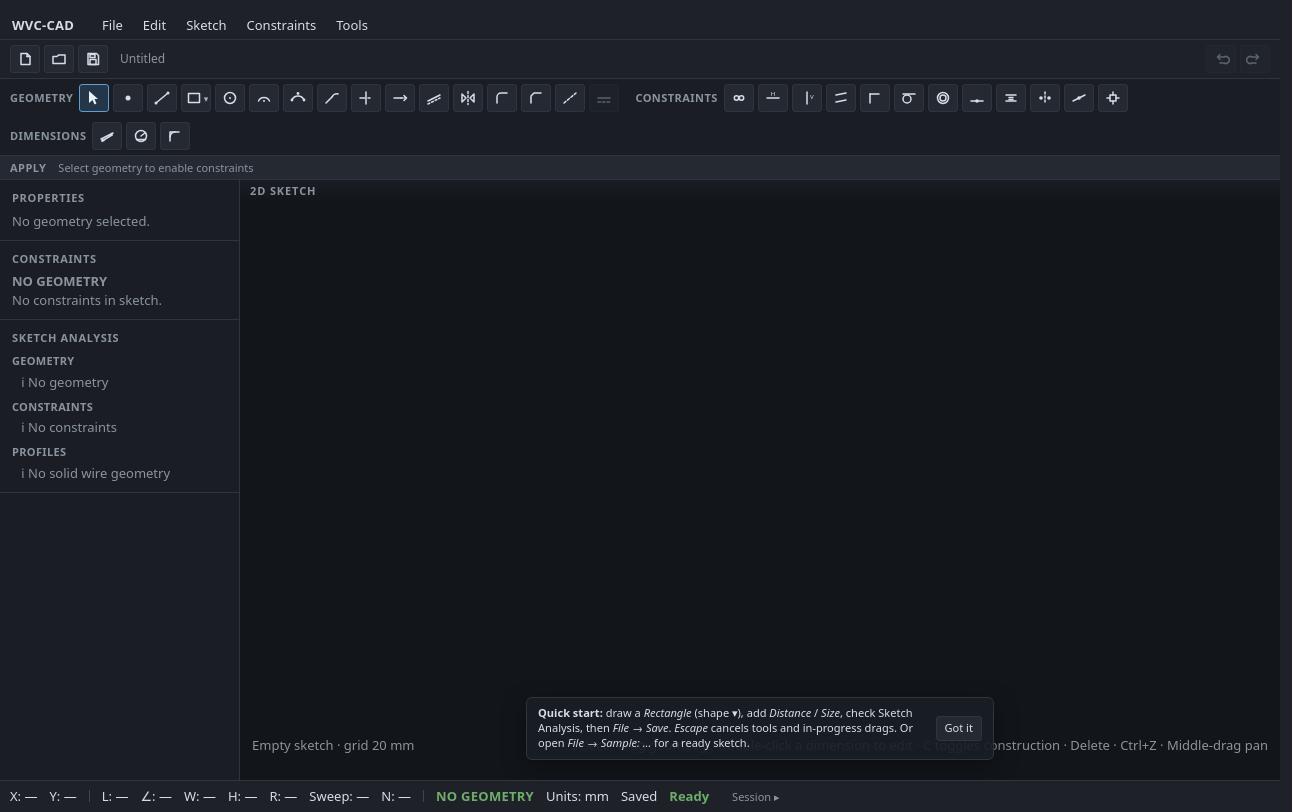
it: App point tool › starts empty and can create a snapped point with the Point tool
Expected: the element named "Sketch canvas" is shown, left=240, top=180, right=1280, bottom=780
Expected: the text "Empty sketch · grid 20 mm" is shown, left=252, top=736, right=414, bottom=755
Click the button with test id "status-session-toggle".
click(756, 796)  # box left=725, top=786, right=787, bottom=807
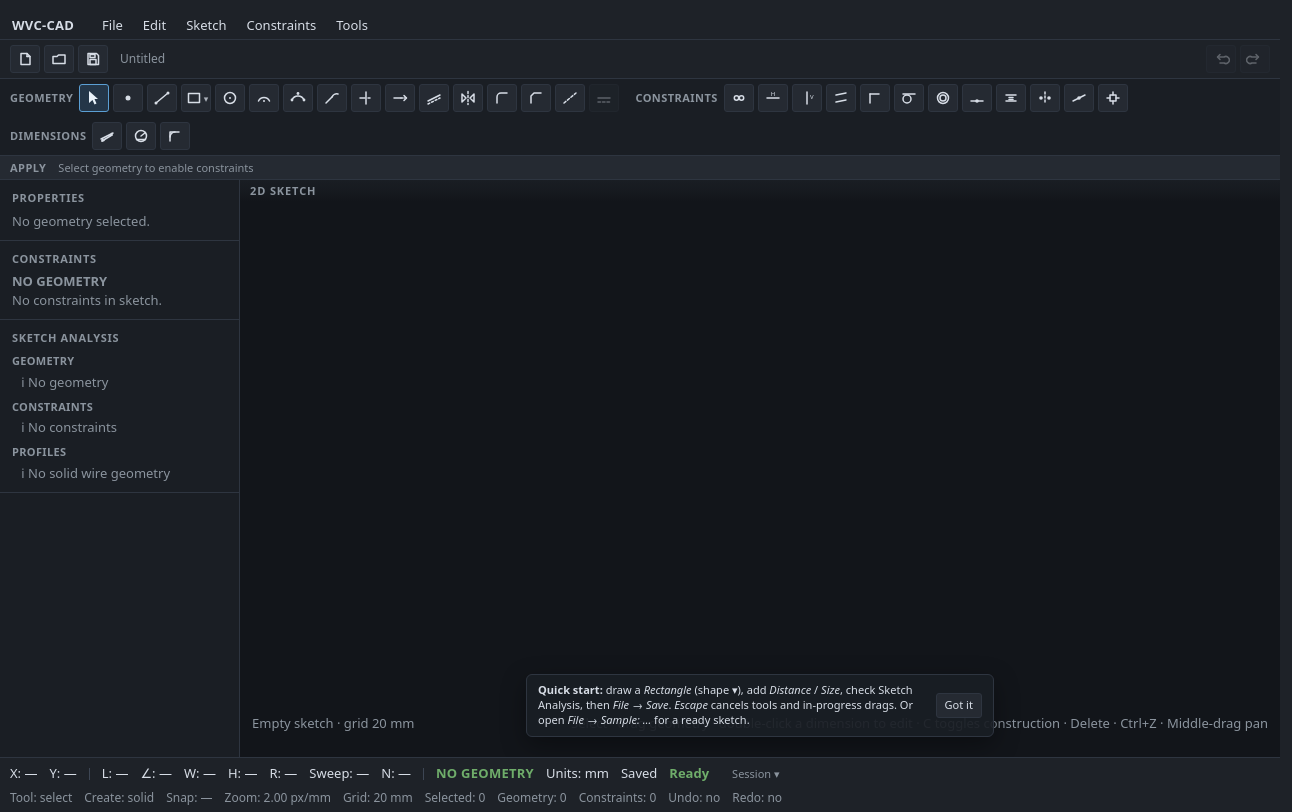
Expected: the message shows "Geometry: 0", left=0, top=757, right=1280, bottom=811
Expected: the message shows "Tool: select", left=0, top=757, right=1280, bottom=811
Click the button named "Point".
click(128, 98)  # box left=113, top=84, right=143, bottom=112
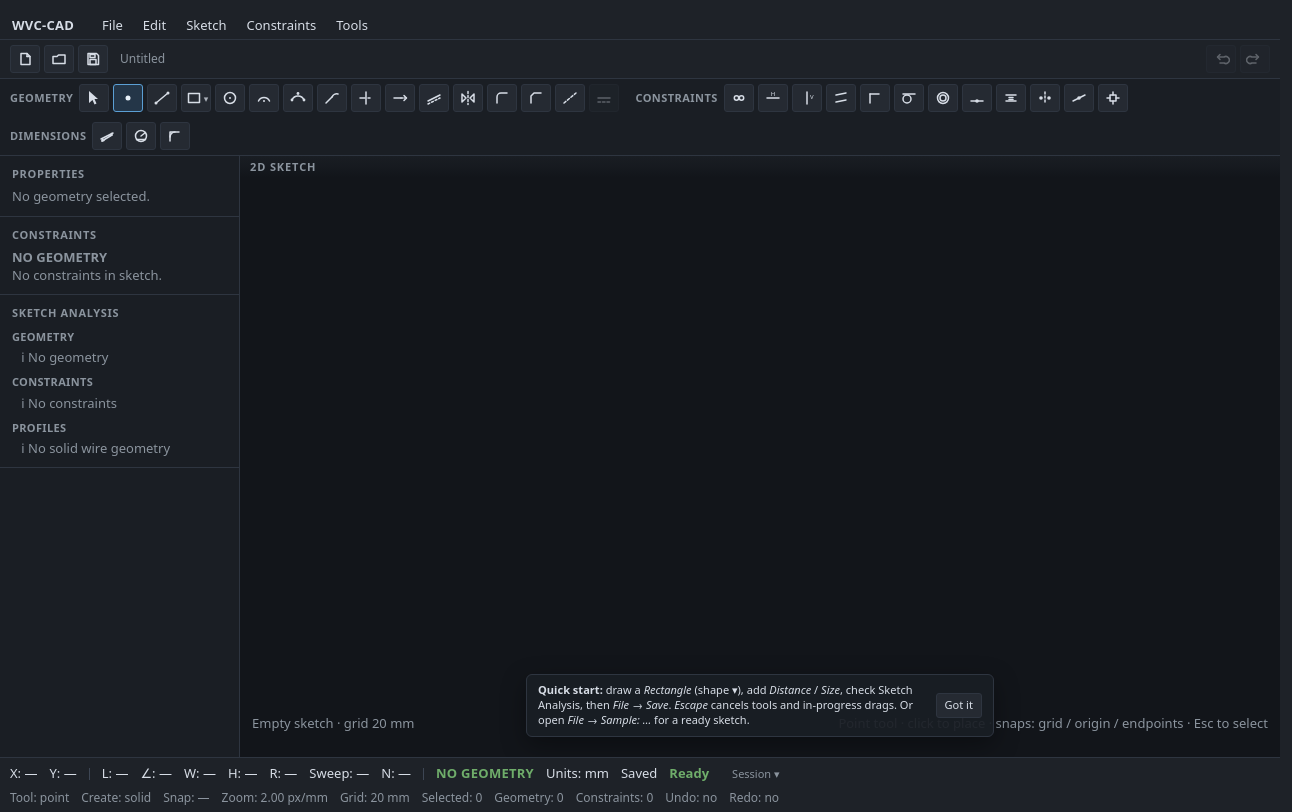
Expected: the message shows "Tool: point", left=0, top=757, right=1280, bottom=811
Press the mouse on the drawing named "Sketch viewport" at [760, 456], box left=240, top=156, right=1280, bottom=757
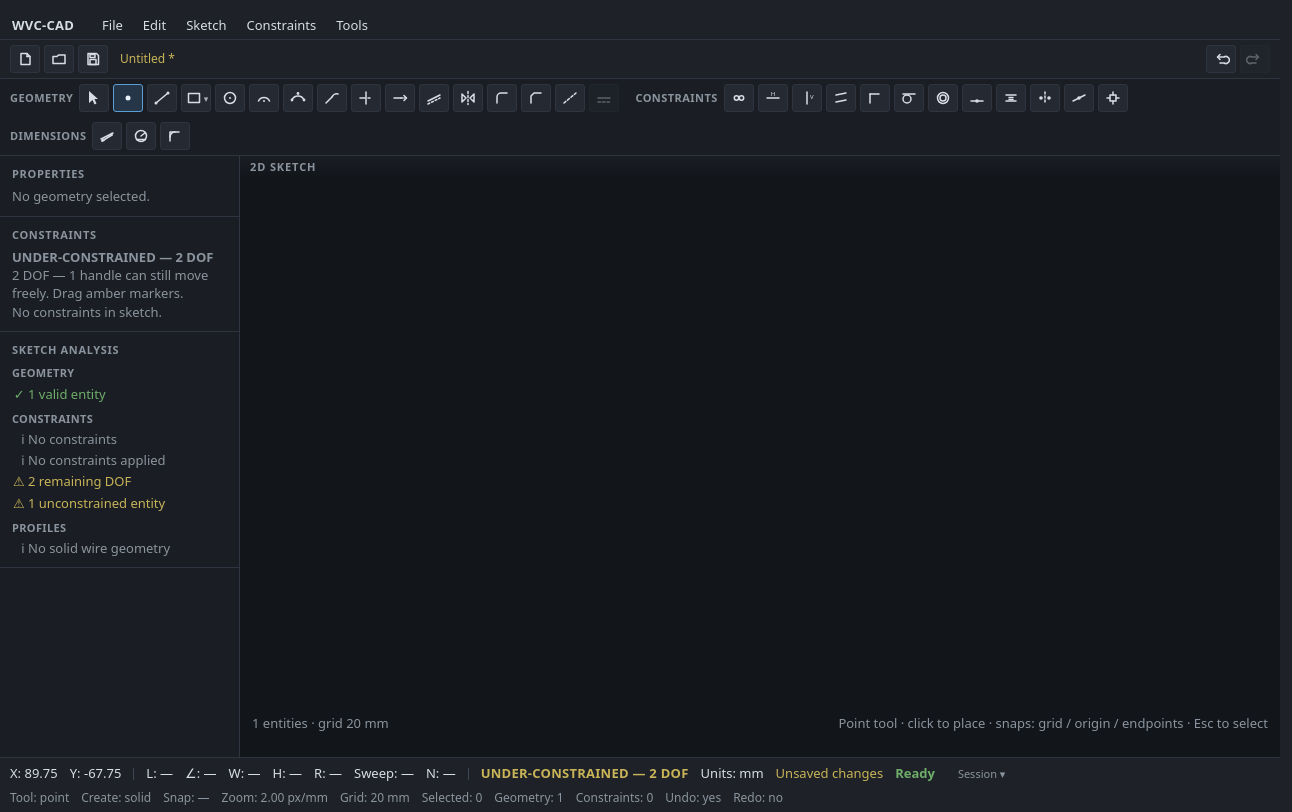
Expected: the message shows "Geometry: 1", left=0, top=757, right=1280, bottom=811
Expected: the text "1 entities · grid 20 mm" is shown, left=252, top=714, right=389, bottom=732
